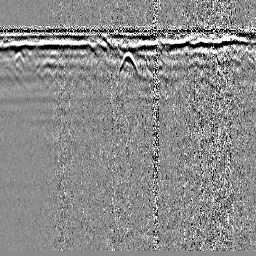cavity: (118, 51, 139, 77)
